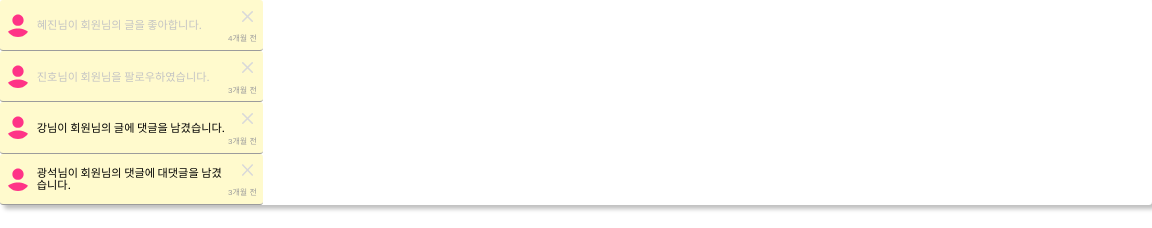
Test: 알림툴팁 › 알림 삭제
Expected: the link "혜진님이 회원님의 글을 좋아합니다." is shown, [37, 20, 202, 31]
Expected: the link "진호님이 회원님을 팔로우하였습니다." is shown, [37, 71, 210, 82]
Click the button with alt text "삭제아이콘" next to "님이 회원님의 글을 좋아합니다.".
click(247, 21)  # box [238, 7, 257, 35]
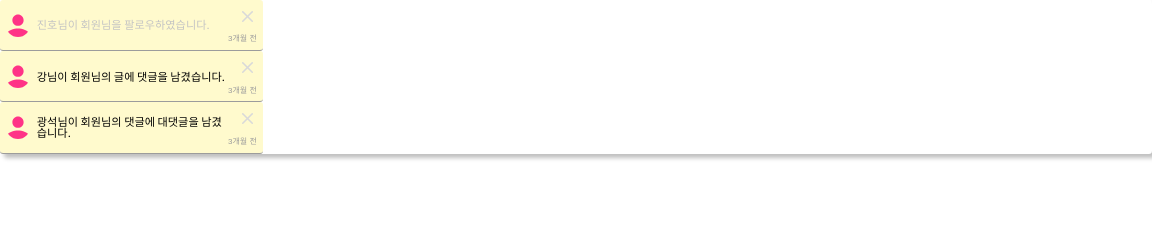
Expected: the link "혜진님이 회원님의 글을 좋아합니다." is gone
